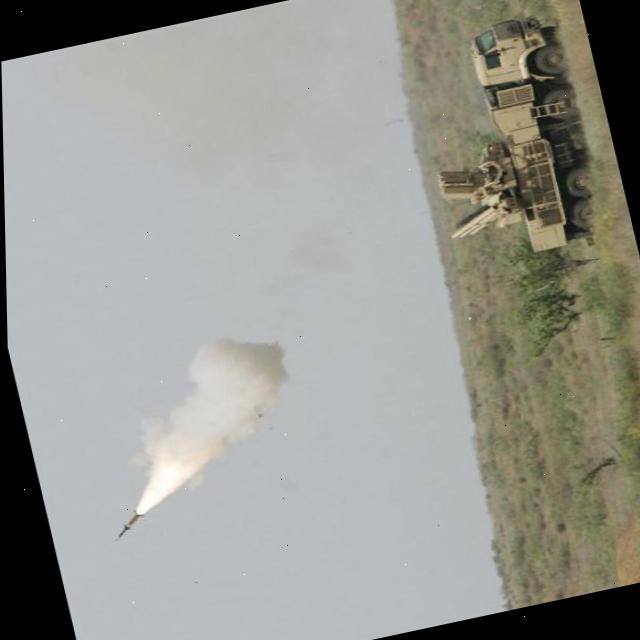missile: (104, 496, 156, 546)
